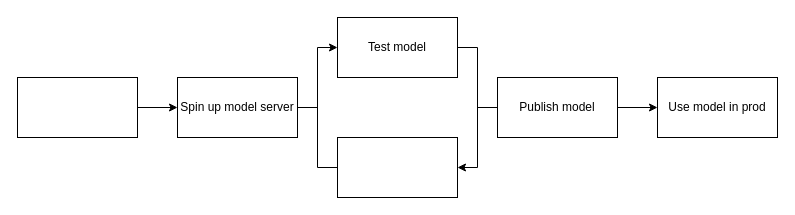
Some shapes in this 795 by 215 pixel diagram are drawn without their labels. Here are the shapes that lost their labels. From the top down, the centre of each, then its label:
(x=77, y=107): Create a Truss
(x=397, y=167): Watch for changes
